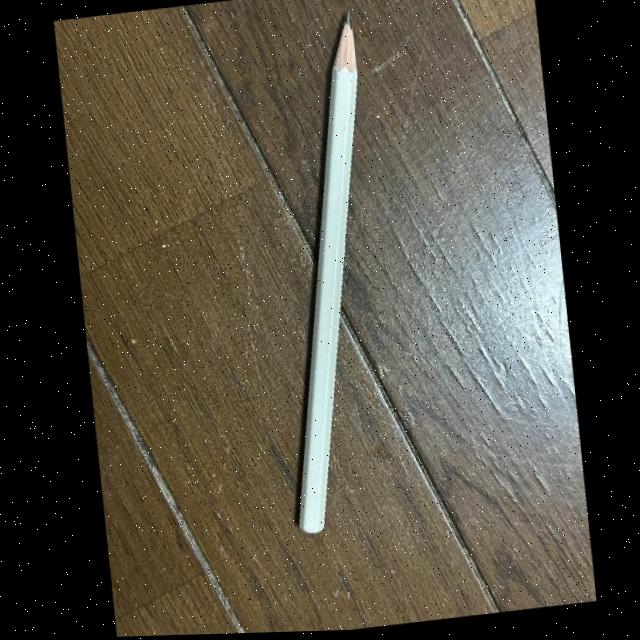pencil: (244, 0, 411, 556)
